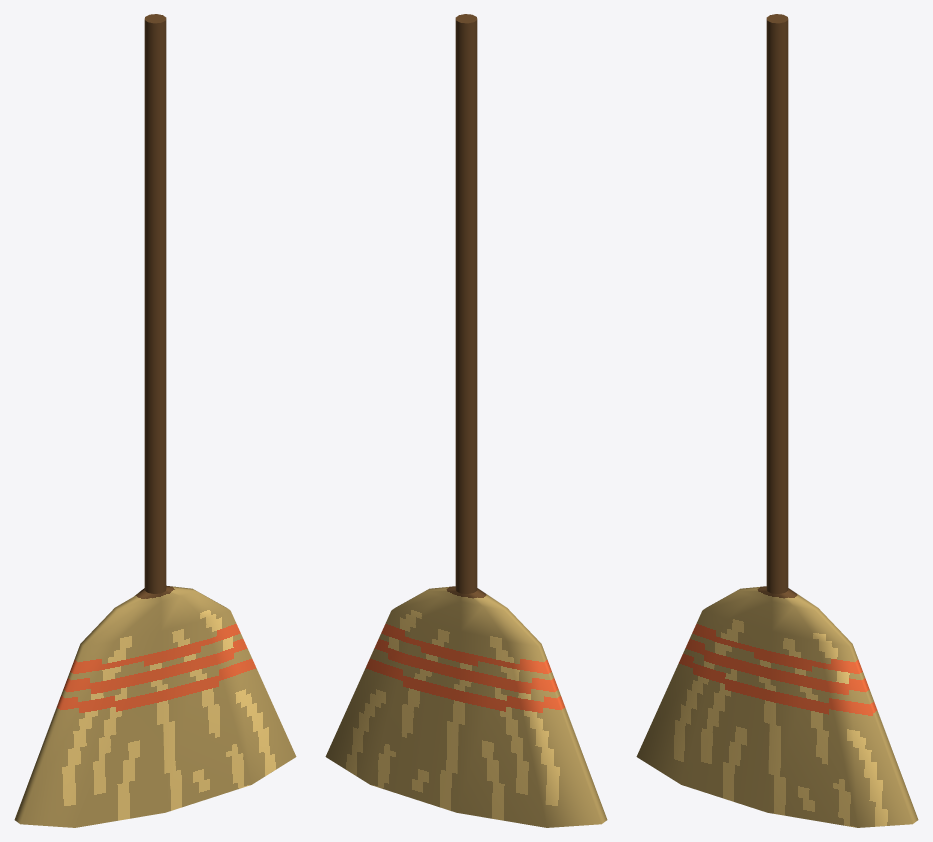
The model's file is broom.glb.
3 views of the same model, side by side, from view 1: azimuth 30°, elevation 25°; view 2: azimuth 150°, elevation 25°; view 3: azimuth 330°, elevation 25° (orthographic).
Parts seen in each view (by area): view 1: Cylinder; view 2: Cylinder; view 3: Cylinder.
Part boxes in pixels (bbox=[...]): Cylinder: bbox=[14, 14, 296, 827]; Cylinder: bbox=[325, 14, 607, 827]; Cylinder: bbox=[636, 14, 918, 827].
Size of the model in its own units: 35.45 by 96.51 by 4.41.
1 material, 1 textured.
